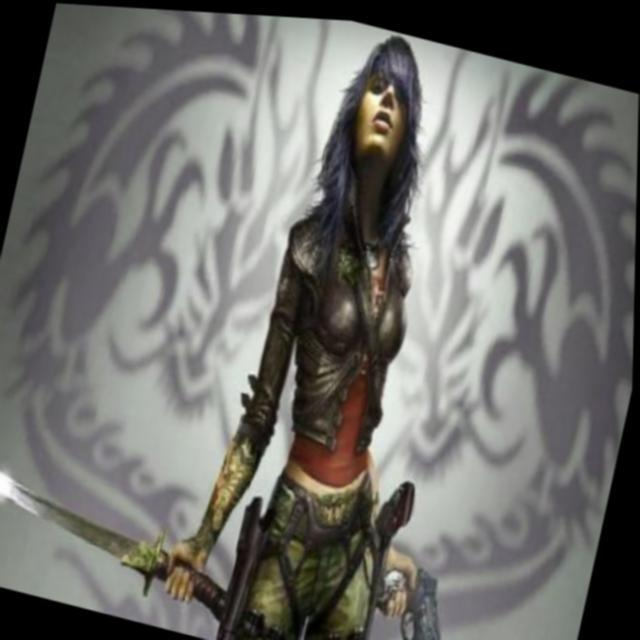weapon: (0, 439, 250, 622), (349, 547, 479, 640), (372, 470, 430, 548)
